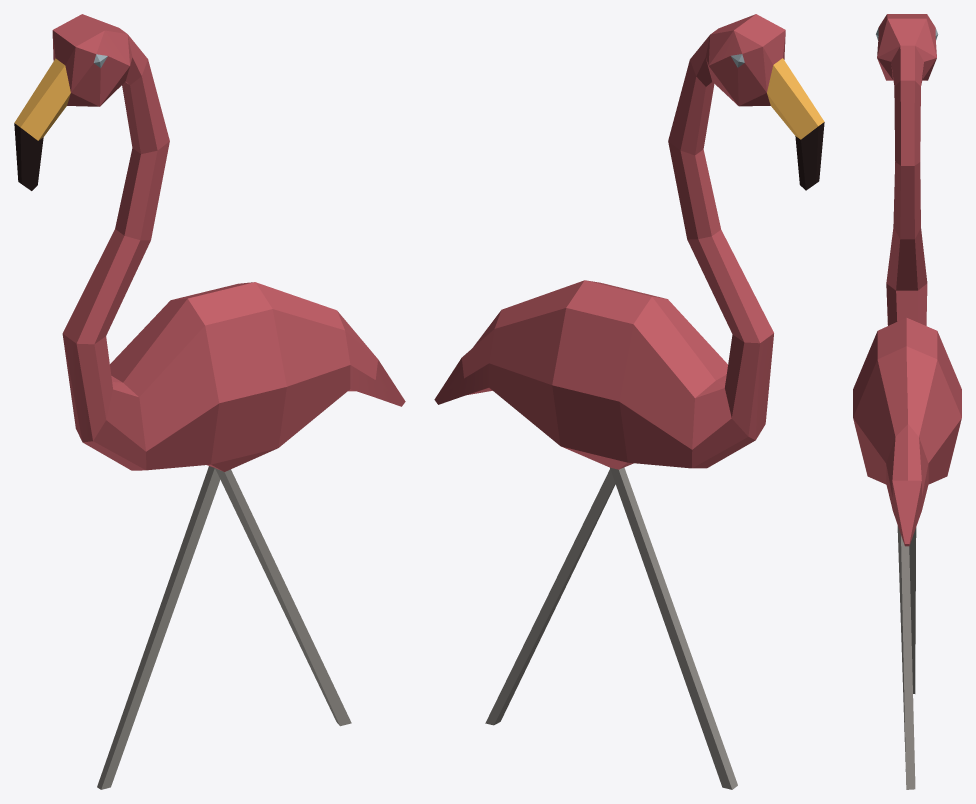
File: SM_Prop_Flamingo_01.obj
3 renders of one model, left to right at view 1: azimuth 30°, elevation 25°; view 2: azimuth 150°, elevation 25°; view 3: azimuth 270°, elevation 25°, orthographic. The views are drawn at different scales.
Visible parts, largest first — view 1: SM_Prop_Flamingo_01_0; view 2: SM_Prop_Flamingo_01_0; view 3: SM_Prop_Flamingo_01_0.
Boxes of the visible parts, x1,y1,x2,y2 form: SM_Prop_Flamingo_01_0: [14, 14, 405, 789]; SM_Prop_Flamingo_01_0: [434, 14, 824, 789]; SM_Prop_Flamingo_01_0: [853, 14, 961, 789].
Bounding box in the file's own units: 0.7537 × 1.43 × 0.2117.
1 material, 1 textured.
